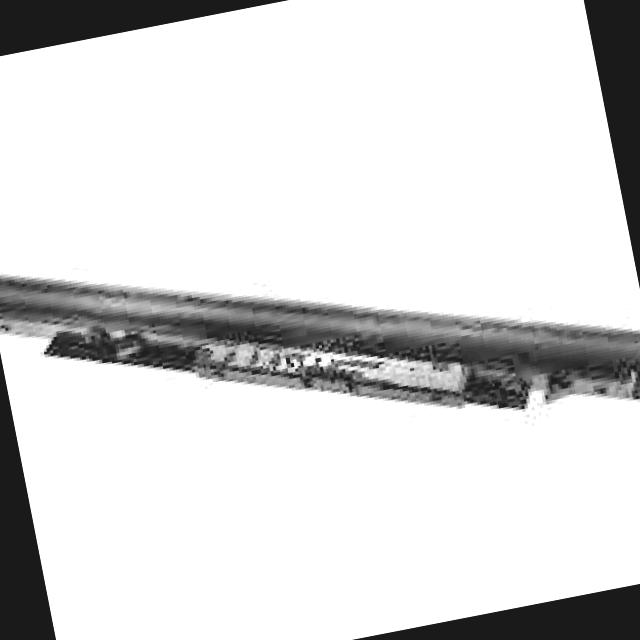Battery: (0, 120, 640, 541)
